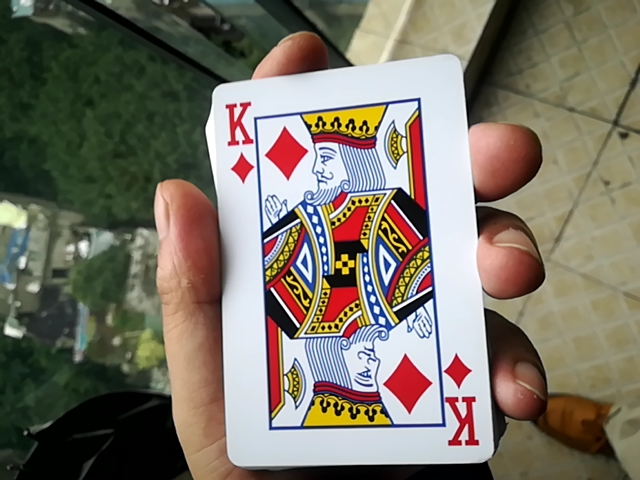fk k: (195, 49, 498, 463)
